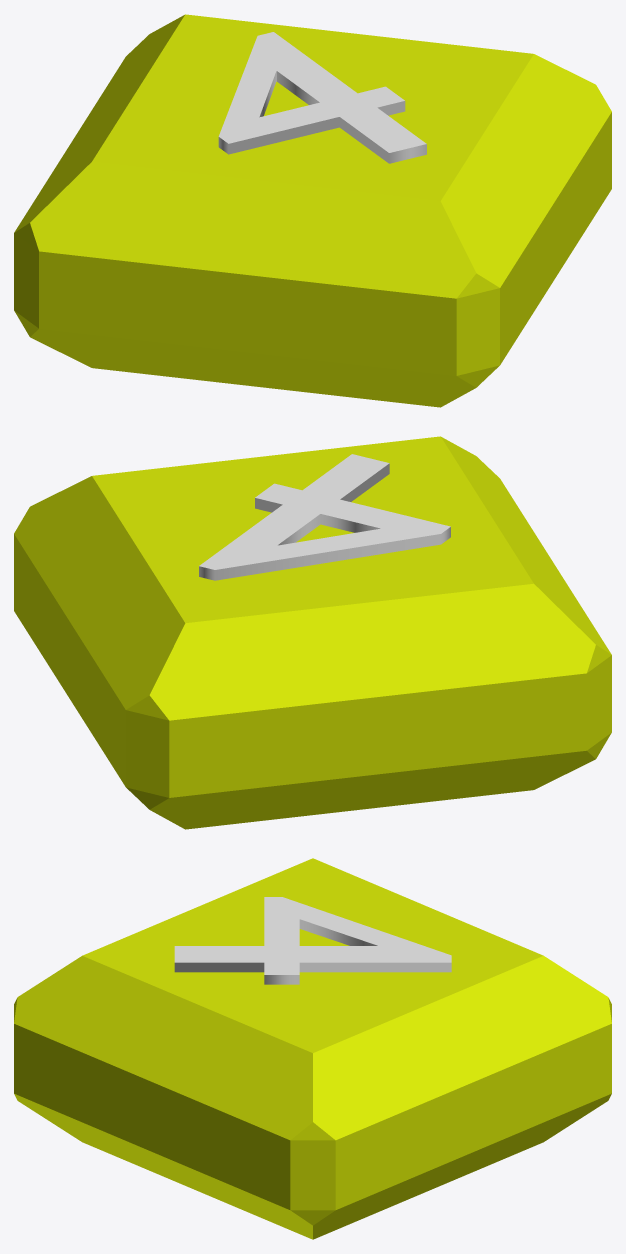
The model's file is 4宝石色.fbx.
The picture shows the model from 3 angles, top to bottom: view 1: azimuth 30°, elevation 25°; view 2: azimuth 150°, elevation 25°; view 3: azimuth 270°, elevation 25°; orthographic projection. The views are drawn at different scales.
Parts seen in each view (by area): view 1: Circle, Text; view 2: Circle, Text; view 3: Circle, Text.
Part boxes in pixels (x1,y1,x2,y2): Circle: (14, 14, 611, 407); Text: (218, 32, 426, 163); Circle: (14, 436, 611, 829); Text: (199, 454, 450, 580); Circle: (14, 858, 611, 1239); Text: (174, 897, 451, 984).
Bounding box in the file's own units: 186 × 70.23 × 186.
